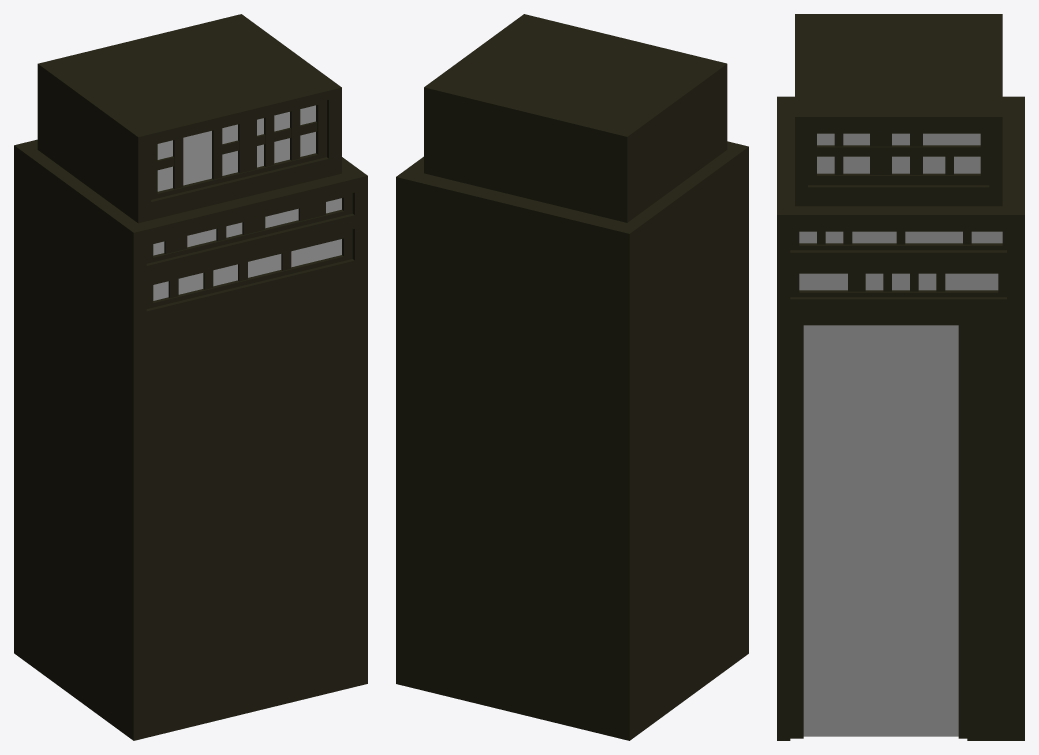
The model's file is Building_Mesh_009.fbx.
3 renders of one model, left to right at view 1: azimuth 30°, elevation 25°; view 2: azimuth 150°, elevation 25°; view 3: azimuth 270°, elevation 25°, orthographic. The views are drawn at different scales.
Parts seen in each view (by area): view 1: Building_009; view 2: Building_009; view 3: Building_009.
Boxes of the visible parts, x1=… form: Building_009: x1=14, y1=14, x2=367, y2=740; Building_009: x1=396, y1=14, x2=748, y2=740; Building_009: x1=777, y1=14, x2=1024, y2=740.
Size of the model in its own units: 5.4 by 13.1 by 4.78.
